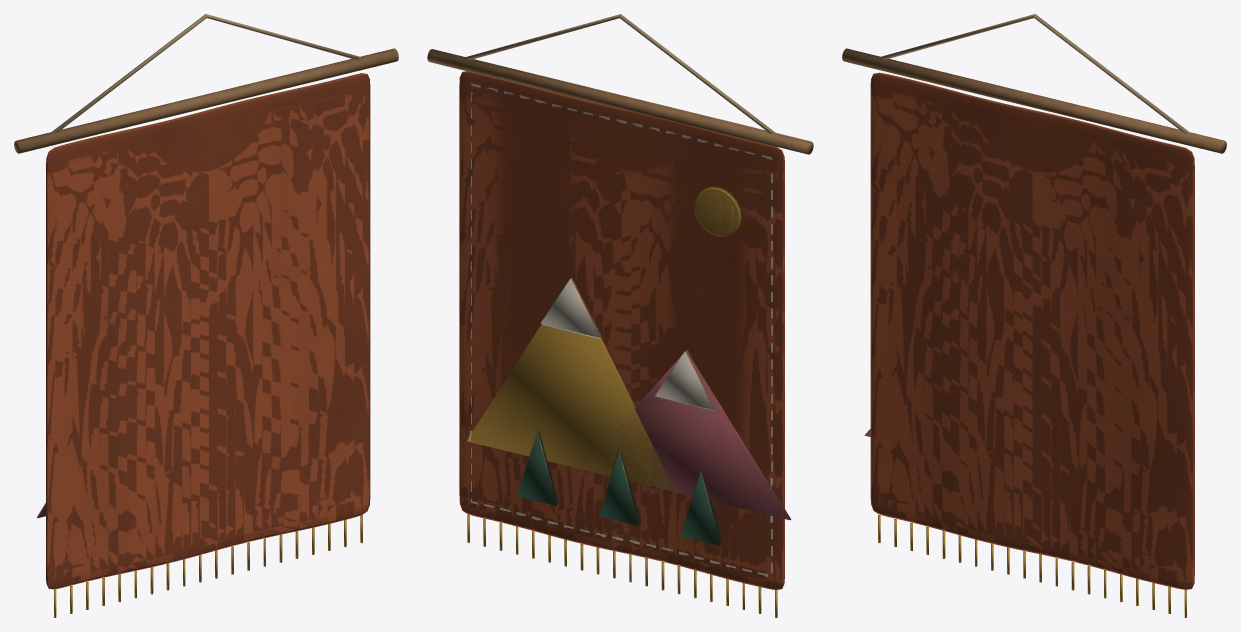
Rendered from tapestry_warm.glb.
3 renders of one model, left to right at view 1: azimuth 30°, elevation 25°; view 2: azimuth 150°, elevation 25°; view 3: azimuth 330°, elevation 25°, orthographic.
Visible parts, largest first — view 1: prop_tapestry_warm_felt, prop_tapestry_warm_wood; view 2: prop_tapestry_warm_felt, prop_tapestry_warm_wood; view 3: prop_tapestry_warm_felt, prop_tapestry_warm_wood.
Part boxes in pixels (x1,y1,x2,y2): prop_tapestry_warm_felt: (36,14,370,617); prop_tapestry_warm_wood: (14,48,398,153); prop_tapestry_warm_felt: (459,14,791,617); prop_tapestry_warm_wood: (427,49,813,154); prop_tapestry_warm_felt: (864,14,1194,617); prop_tapestry_warm_wood: (842,48,1226,153).
Size of the model in its own units: 2.32 by 3.31 by 0.072.
Materials: 2 (2 with a texture image).
